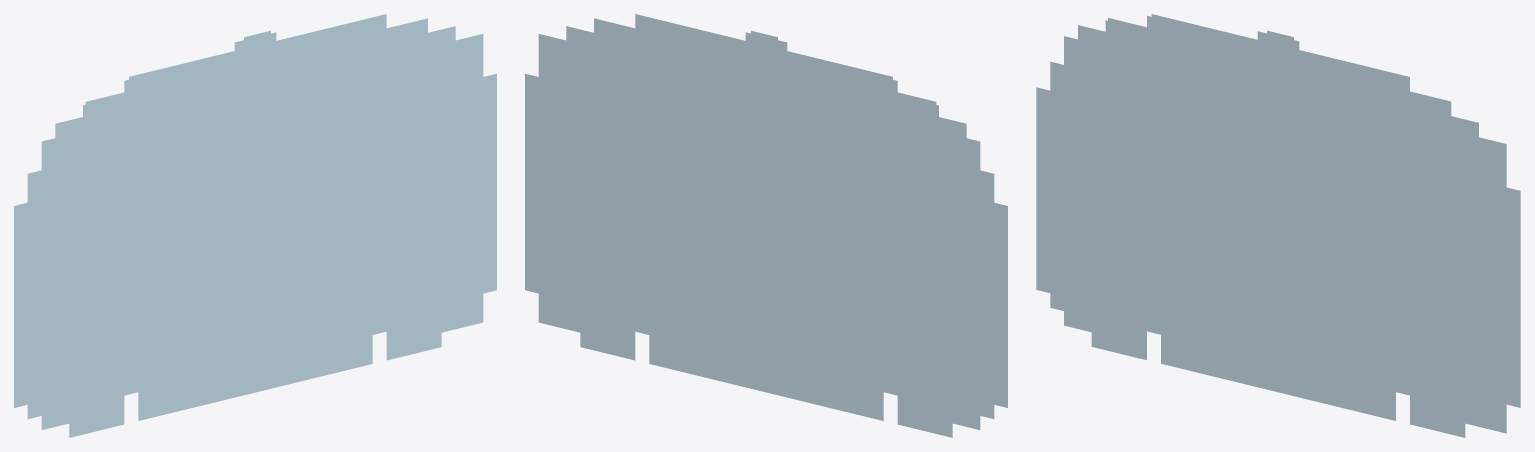
Rendered from wp_water_96.obj.
The picture shows the model from 3 angles, left to right: view 1: azimuth 30°, elevation 25°; view 2: azimuth 150°, elevation 25°; view 3: azimuth 330°, elevation 25°; orthographic projection.
Bounding box in the file's own units: 0.4872 × 0.3452 × 0.
1 material, 1 textured.
